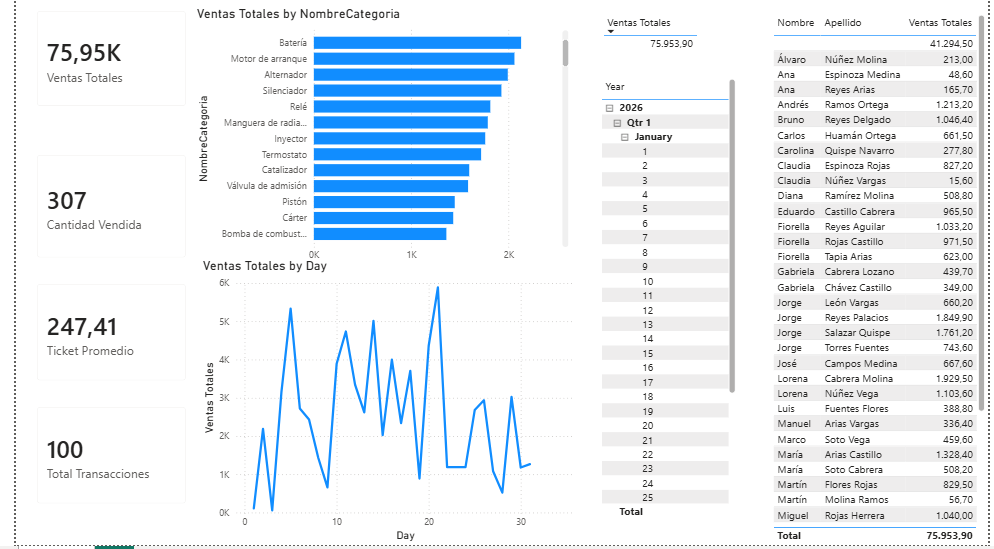

Layout of this report page (visuals, bound fields, positions):
{"tool":"powerbi","page":{"name":"Page 1","canvas":[1280,720],"ordinal":0},"visuals":[{"type":"cardVisual","fields":{"Data":["dw_comercial_vida factventa.Ventas Totales"]},"box":[10.1,0,230.1,159.6],"z":0},{"type":"cardVisual","fields":{"Data":["dw_comercial_vida factventa.Total Transacciones"]},"box":[10.1,520.7,230.1,161.3],"z":1000},{"type":"cardVisual","fields":{"Data":["dw_comercial_vida factventa.Ticket Promedio"]},"box":[10.1,359.5,230.1,161.3],"z":2000},{"type":"cardVisual","fields":{"Data":["dw_comercial_vida factventa.Cantidad Vendida"]},"box":[10.1,189.8,230.1,169.7],"z":3000},{"type":"clusteredBarChart","fields":{"Category":["dw_comercial_vida dimproducto.NombreCategoria"],"Y":["dw_comercial_vida factventa.Ventas Totales"]},"box":[232.7,10,499.1,359.1],"z":4000},{"type":"lineChart","fields":{"Category":["dw_comercial_vida dimfecha.Fecha Hierarchy.Fecha","dw_comercial_vida dimfecha.Fecha.Variation.Date Hierarchy.Year","dw_comercial_vida dimfecha.Fecha.Variation.Date Hierarchy.Quarter","dw_comercial_vida dimfecha.Fecha.Variation.Date Hierarchy.Day"],"Y":["dw_comercial_vida factventa.Ventas Totales"]},"box":[240.2,342.7,498.9,378],"z":5000},{"type":"tableEx","fields":{"Values":["dw_comercial_vida dimcliente.Nombre","dw_comercial_vida dimcliente.Apellido","dw_comercial_vida factventa.Ventas Totales"]},"box":[991.1,16.8,288.9,703.8],"z":6000},{"type":"pivotTable","fields":{"Rows":["dw_comercial_vida dimfecha.Fecha.Variation.Date Hierarchy.Year","dw_comercial_vida dimfecha.Fecha.Variation.Date Hierarchy.Quarter","dw_comercial_vida dimfecha.Fecha.Variation.Date Hierarchy.Month","dw_comercial_vida dimfecha.Fecha.Variation.Date Hierarchy.Day"]},"box":[766.7,132.2,186.7,576.7],"z":7000},{"type":"tableEx","fields":{"Values":["dw_comercial_vida factventa.Ventas Totales"]},"box":[767.1,17.1,185.7,78.6],"z":7001}]}

Visuals, with their boxes in screenshot pixels (x1, y1, x2, y2), scaled from the page's 1280x720 canvas onto the 994x549 screenshot:
cardVisual - dw_comercial_vida factventa.Ventas Totales: select_region(8, 0, 187, 122)
cardVisual - dw_comercial_vida factventa.Total Transacciones: select_region(8, 397, 187, 520)
cardVisual - dw_comercial_vida factventa.Ticket Promedio: select_region(8, 274, 187, 397)
cardVisual - dw_comercial_vida factventa.Cantidad Vendida: select_region(8, 145, 187, 274)
clusteredBarChart - dw_comercial_vida dimproducto.NombreCategoria x dw_comercial_vida factventa.Ventas Totales: select_region(181, 8, 568, 281)
lineChart - dw_comercial_vida dimfecha.Fecha Hierarchy.Fecha x dw_comercial_vida dimfecha.Fecha.Variation.Date Hierarchy.Year: select_region(187, 261, 574, 548)
tableEx - dw_comercial_vida dimcliente.Nombre x dw_comercial_vida dimcliente.Apellido: select_region(770, 13, 993, 548)
pivotTable - dw_comercial_vida dimfecha.Fecha.Variation.Date Hierarchy.Year x dw_comercial_vida dimfecha.Fecha.Variation.Date Hierarchy.Quarter: select_region(595, 101, 740, 541)
tableEx - dw_comercial_vida factventa.Ventas Totales: select_region(596, 13, 740, 73)
